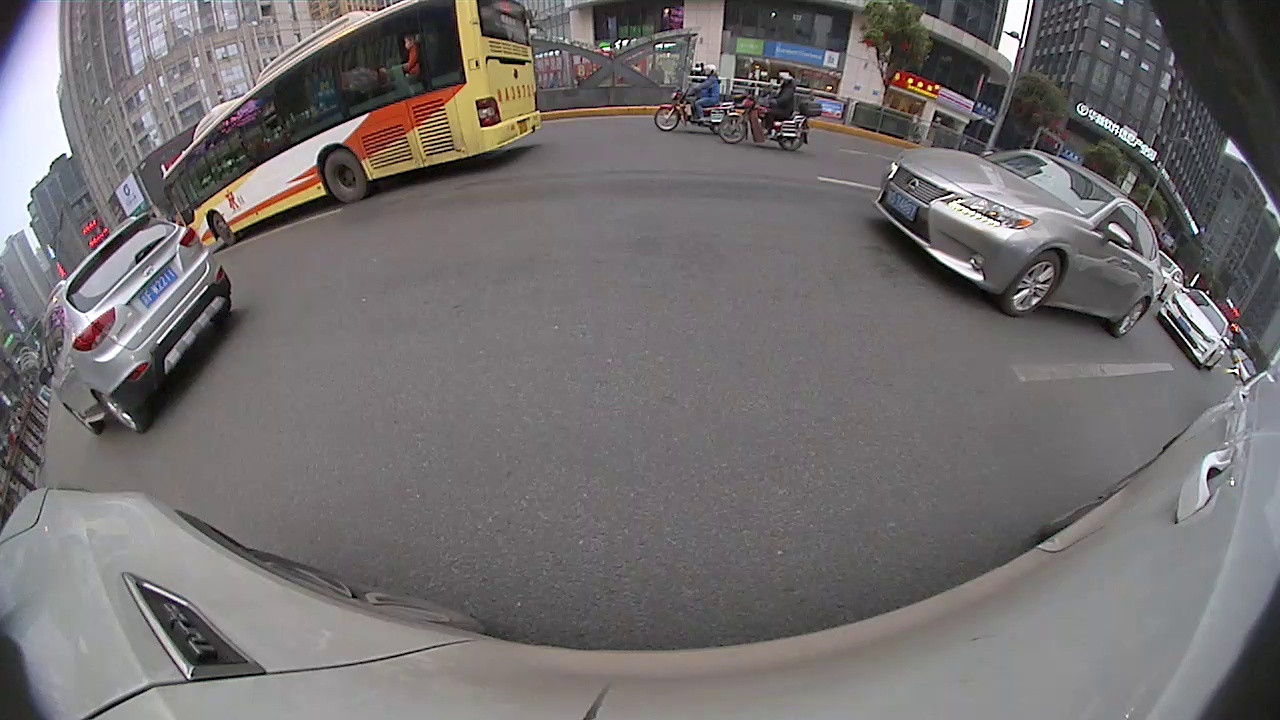bus: (162, 1, 539, 256)
car: (876, 142, 1167, 337), (39, 211, 239, 442), (1157, 291, 1230, 369)
front: (1000, 248, 1064, 318), (209, 209, 238, 248), (718, 112, 749, 144), (654, 106, 683, 133)
rear: (322, 147, 370, 204), (92, 388, 149, 435), (1111, 294, 1149, 340), (779, 131, 807, 152)
rider: (716, 71, 817, 152), (658, 63, 738, 134)
